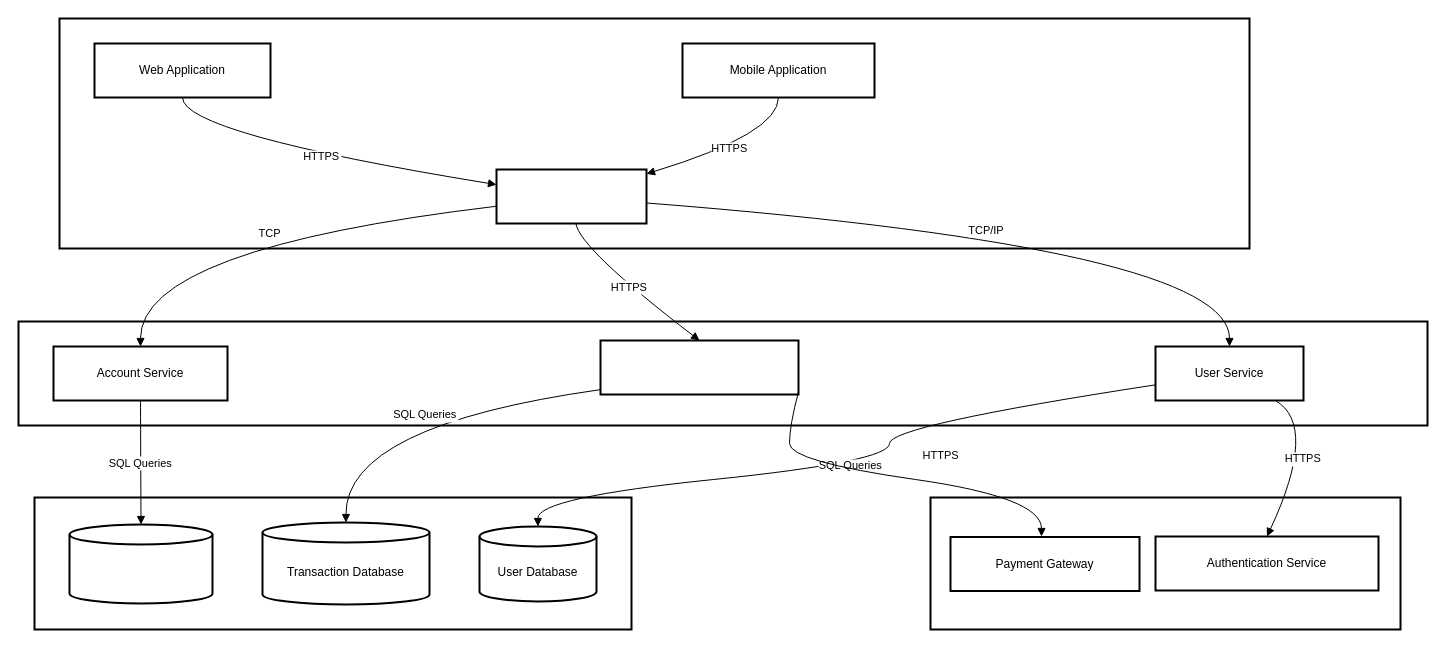
Image size: 1445x647. Some labels were removed from this diagram. The box of each missing label's shape, as (x1, y1, x2, y2) in pixels:
Account Database: (68, 523, 213, 604)
API Gateway: (495, 168, 647, 224)
External Services: (929, 496, 1401, 630)
Transaction Service: (599, 339, 799, 395)
User Interface: (58, 17, 1250, 249)
